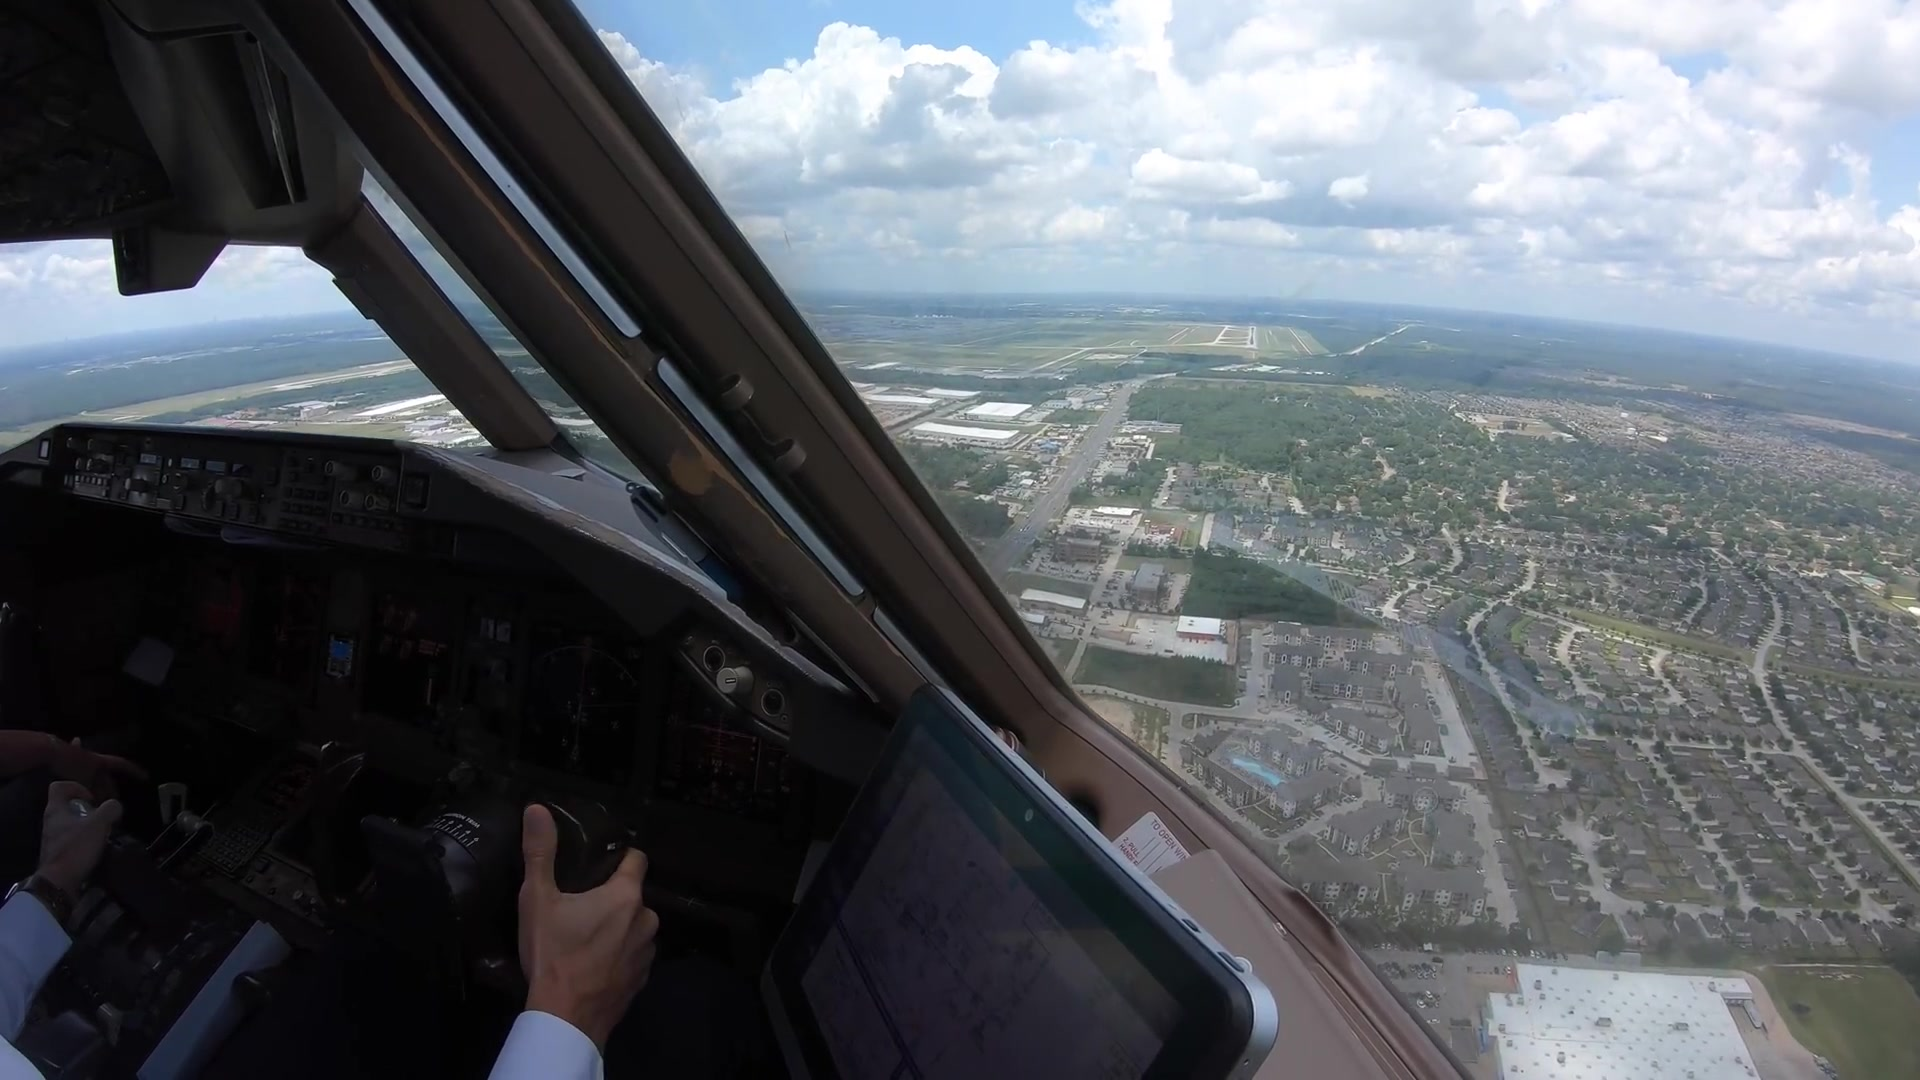runway: (1245, 324, 1258, 349)
